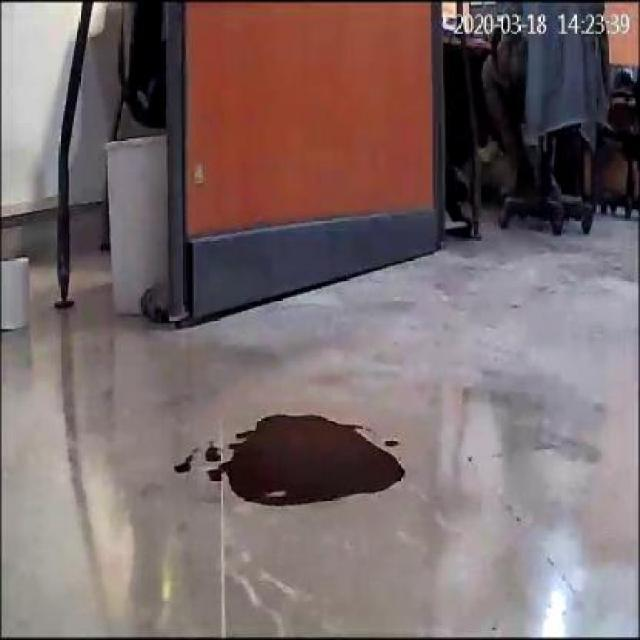spill: (203, 410, 403, 507)
